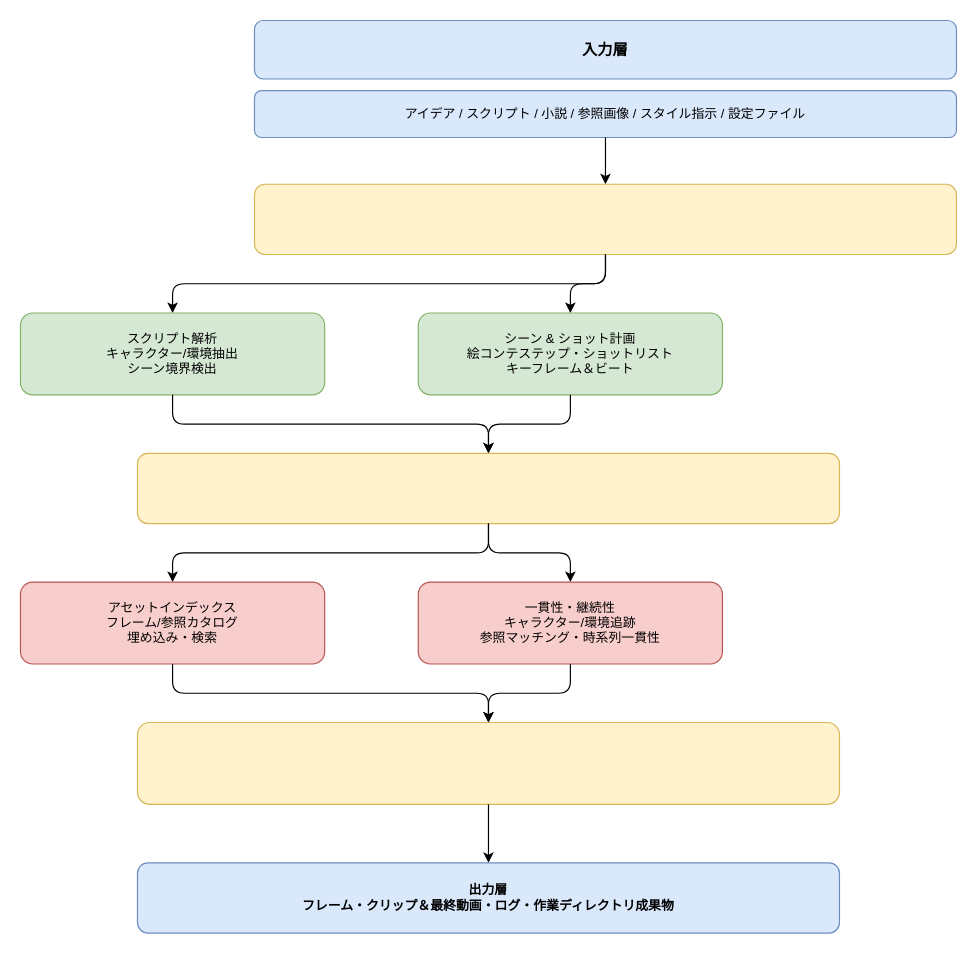
This 977x954 diagram has some shape labels left out. Here are the shapes that lost their labels. From the top down, the centre of each, then its label:
At [604,218]: "中央オーケストレーション エージェントスケジューリング・ステージ遷移・リソース管理・リトライ/フォールバック".
At [487,488]: "ビジュアルアセット計画 参照画像選択・外観/スタイルガイダンス・プロンプトコンディショニング".
At [487,762]: "ビジュアル合成 & アセンブリ 画像生成・ベストフレーム選択・動画生成 カット＆タイムラインアセンブリ".
